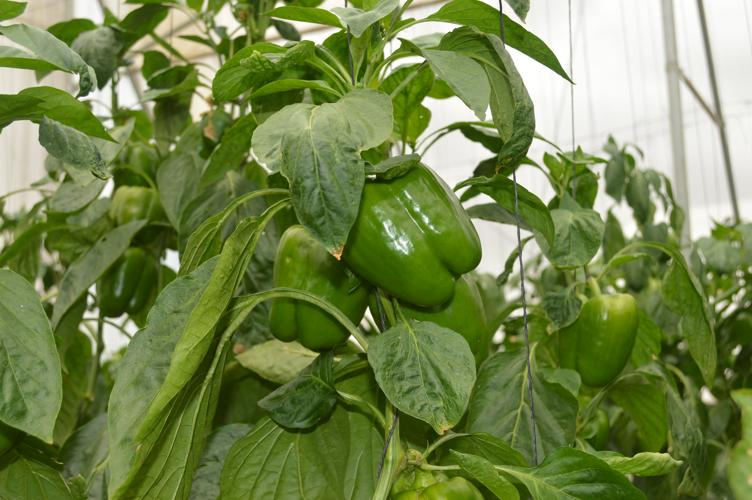BellPepper: (326, 159, 489, 320), (260, 208, 374, 362), (553, 276, 644, 399), (91, 248, 155, 321), (100, 178, 169, 242)
